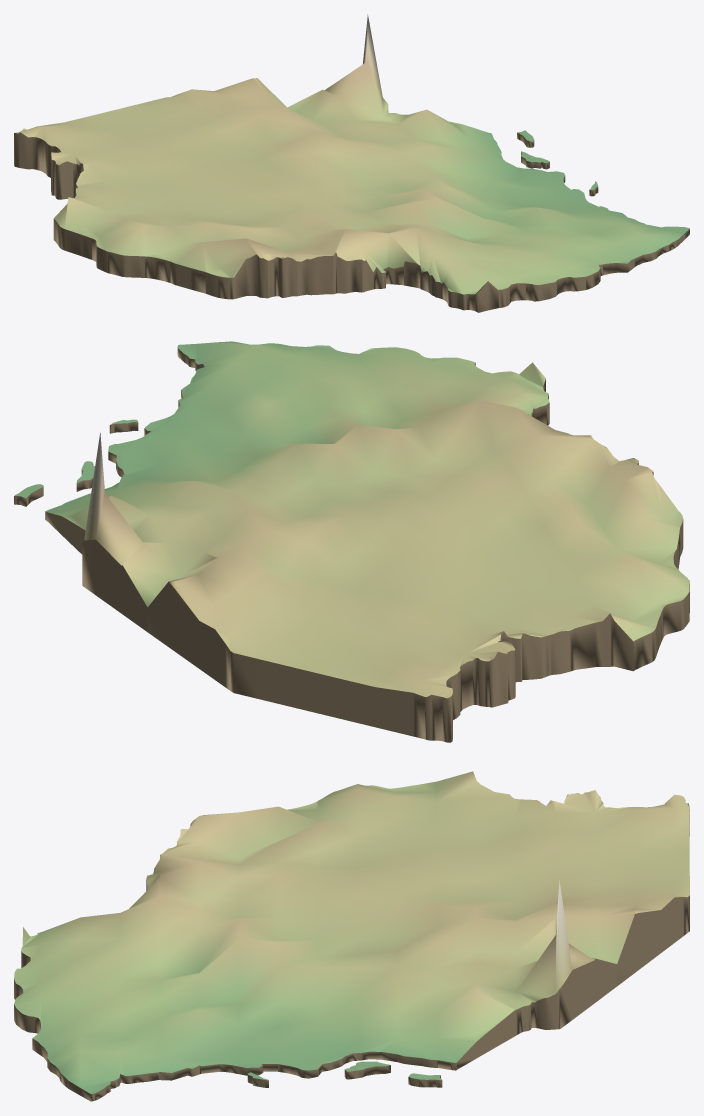
File: TZA.glb
3 renders of one model, top to bottom at view 1: azimuth 30°, elevation 25°; view 2: azimuth 150°, elevation 25°; view 3: azimuth 270°, elevation 25°, orthographic. The views are drawn at different scales.
Visible parts, largest first — view 1: TZA; view 2: TZA; view 3: TZA.
Boxes of the visible parts, x1,y1,x2,y2 form: TZA: (14, 14, 689, 312); TZA: (14, 341, 689, 742); TZA: (14, 771, 689, 1101).
Size of the model in its own units: 1.5 by 0.338 by 1.46.
